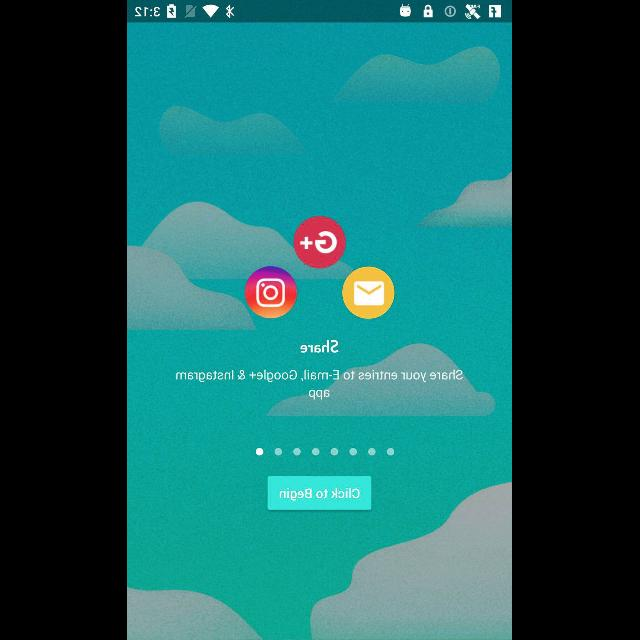backgroundimage: (128, 22, 512, 640)
image: (246, 215, 396, 318)
pageindicator: (256, 448, 396, 457)
text: (176, 368, 464, 400), (300, 340, 340, 354)
textbutton: (268, 476, 372, 510)
uppertaskbar: (128, 1, 512, 23)
